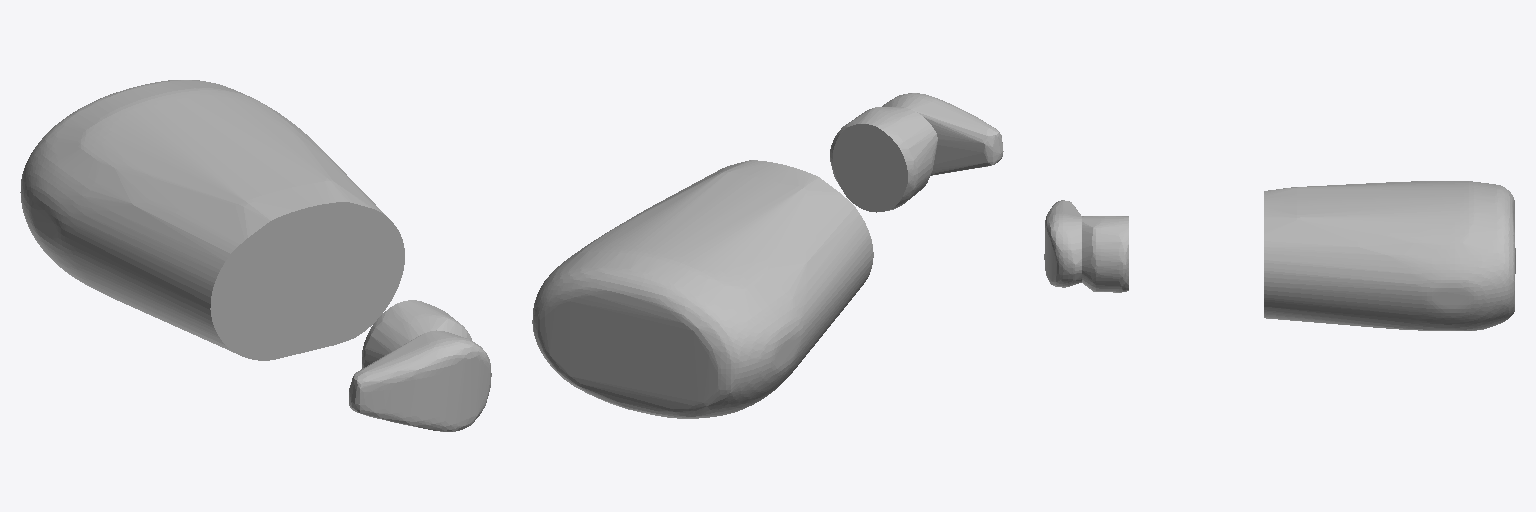
URDF robot description (root):
<robot name="root">
  <link name="link_coacd_convex_piece_0">
    <inertial>
      <origin xyz="0 0 0" rpy="0 0 0"/>
      <inertia ixx="8.61E-08" ixy="2.05E-09" ixz="-4.43E-12" iyy="2.19E-09" iyz="1.23E-09" izz="8.61E-08"/>
    </inertial>
    <visual>
      <origin xyz="0 0 0" rpy="0 0 0"/>
      <geometry>
        <mesh filename="coacd_convex_piece_0.obj" scale="1.0000E+00 1.0000E+00 1.0000E+00"/>
      </geometry>
      <material name="">
        <color rgba="7.50E-01 7.50E-01 7.50E-01 1"/>
      </material>
    </visual>
    <collision>
      <origin xyz="0 0 0" rpy="0 0 0"/>
      <geometry>
        <mesh filename="coacd_convex_piece_0.obj" scale="1.0000E+00 1.0000E+00 1.0000E+00"/>
      </geometry>
    </collision>
  </link>
  <link name="link_coacd_convex_piece_1">
    <inertial>
      <origin xyz="0 0 0" rpy="0 0 0"/>
      <inertia ixx="1.15E-07" ixy="-7.74E-09" ixz="3.72E-10" iyy="3.08E-09" iyz="3.19E-09" izz="1.16E-07"/>
    </inertial>
    <visual>
      <origin xyz="0 0 0" rpy="0 0 0"/>
      <geometry>
        <mesh filename="coacd_convex_piece_1.obj" scale="1.0000E+00 1.0000E+00 1.0000E+00"/>
      </geometry>
      <material name="">
        <color rgba="7.50E-01 7.50E-01 7.50E-01 1"/>
      </material>
    </visual>
    <collision>
      <origin xyz="0 0 0" rpy="0 0 0"/>
      <geometry>
        <mesh filename="coacd_convex_piece_1.obj" scale="1.0000E+00 1.0000E+00 1.0000E+00"/>
      </geometry>
    </collision>
  </link>
  <joint name="link_coacd_convex_piece_1_joint" type="fixed">
    <origin xyz="0 0 0" rpy="0 0 0"/>
    <parent link="link_coacd_convex_piece_0"/>
    <child link="link_coacd_convex_piece_1"/>
  </joint>
  <link name="link_coacd_convex_piece_2">
    <inertial>
      <origin xyz="0 0 0" rpy="0 0 0"/>
      <inertia ixx="1.38E-07" ixy="6.72E-09" ixz="-4.87E-10" iyy="6.82E-08" iyz="5.05E-09" izz="1.65E-07"/>
    </inertial>
    <visual>
      <origin xyz="0 0 0" rpy="0 0 0"/>
      <geometry>
        <mesh filename="coacd_convex_piece_2.obj" scale="1.0000E+00 1.0000E+00 1.0000E+00"/>
      </geometry>
      <material name="">
        <color rgba="7.50E-01 7.50E-01 7.50E-01 1"/>
      </material>
    </visual>
    <collision>
      <origin xyz="0 0 0" rpy="0 0 0"/>
      <geometry>
        <mesh filename="coacd_convex_piece_2.obj" scale="1.0000E+00 1.0000E+00 1.0000E+00"/>
      </geometry>
    </collision>
  </link>
  <joint name="link_coacd_convex_piece_2_joint" type="fixed">
    <origin xyz="0 0 0" rpy="0 0 0"/>
    <parent link="link_coacd_convex_piece_1"/>
    <child link="link_coacd_convex_piece_2"/>
  </joint>
  <link name="link_coacd_convex_piece_3">
    <inertial>
      <origin xyz="0 0 0" rpy="0 0 0"/>
      <inertia ixx="1.16E-06" ixy="1.18E-09" ixz="-1.80E-09" iyy="2.41E-07" iyz="7.68E-09" izz="1.26E-06"/>
    </inertial>
    <visual>
      <origin xyz="0 0 0" rpy="0 0 0"/>
      <geometry>
        <mesh filename="coacd_convex_piece_3.obj" scale="1.0000E+00 1.0000E+00 1.0000E+00"/>
      </geometry>
      <material name="">
        <color rgba="7.50E-01 7.50E-01 7.50E-01 1"/>
      </material>
    </visual>
    <collision>
      <origin xyz="0 0 0" rpy="0 0 0"/>
      <geometry>
        <mesh filename="coacd_convex_piece_3.obj" scale="1.0000E+00 1.0000E+00 1.0000E+00"/>
      </geometry>
    </collision>
  </link>
  <joint name="link_coacd_convex_piece_3_joint" type="fixed">
    <origin xyz="0 0 0" rpy="0 0 0"/>
    <parent link="link_coacd_convex_piece_2"/>
    <child link="link_coacd_convex_piece_3"/>
  </joint>
</robot>

--- Render facts (derived) ---
Views: 3 orthographic renders of the robot side by side, from view 1: azimuth 30°, elevation 25°; view 2: azimuth 150°, elevation 25°; view 3: azimuth 270°, elevation 25°.
Model root with 4 links and 3 joints (3 fixed), rooted at link_coacd_convex_piece_0, posed every joint at zero.
Links seen in each view (by area): view 1: link_coacd_convex_piece_3, link_coacd_convex_piece_1, link_coacd_convex_piece_0; view 2: link_coacd_convex_piece_3, link_coacd_convex_piece_0, link_coacd_convex_piece_1; view 3: link_coacd_convex_piece_3, link_coacd_convex_piece_0, link_coacd_convex_piece_1.
Link boxes in pixels (<box>): link_coacd_convex_piece_3: <box>20,80,404,360</box>; link_coacd_convex_piece_1: <box>349,330,491,431</box>; link_coacd_convex_piece_0: <box>362,300,471,368</box>; link_coacd_convex_piece_3: <box>532,160,873,418</box>; link_coacd_convex_piece_0: <box>830,107,937,212</box>; link_coacd_convex_piece_1: <box>882,93,1003,175</box>; link_coacd_convex_piece_3: <box>1264,181,1515,330</box>; link_coacd_convex_piece_0: <box>1082,216,1128,292</box>; link_coacd_convex_piece_1: <box>1044,200,1081,287</box>.
Bounding box of the posed robot: 0.0937 × 0.2077 × 0.056 m (x, y, z).
Meshes: 4 distinct files referenced, 3 mesh visuals loaded (3 OBJ); not drawn: 1 (reference not matched to a file when rendering).